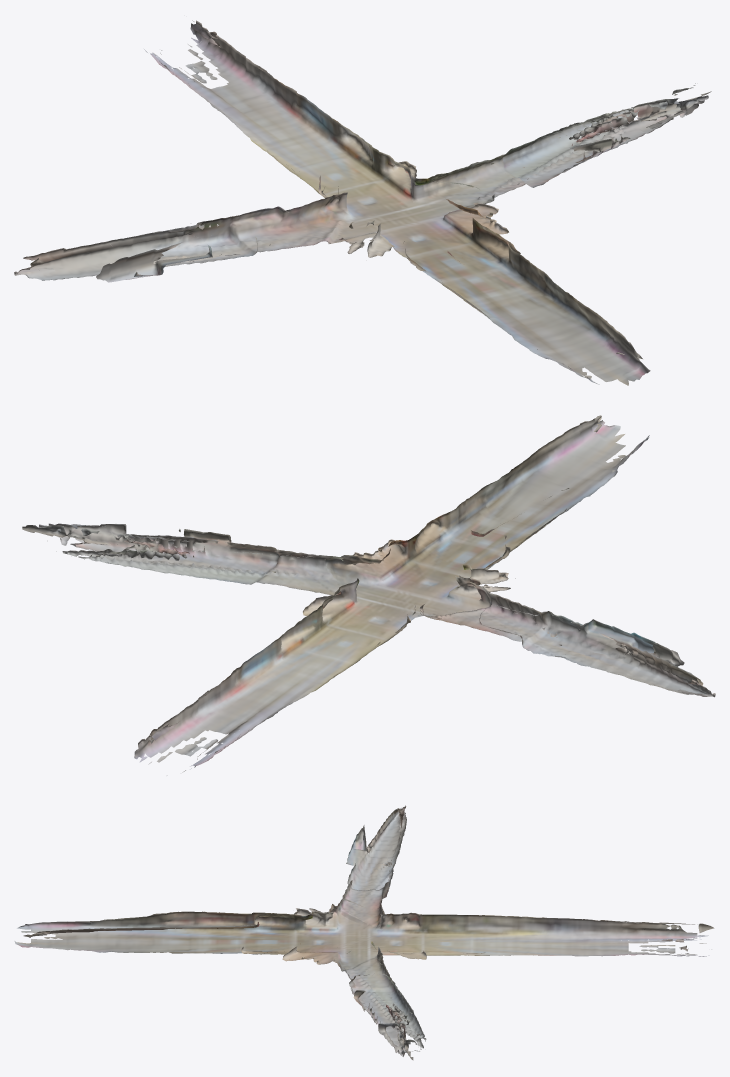
3 views of the same model, one above another, from view 1: azimuth 30°, elevation 25°; view 2: azimuth 150°, elevation 25°; view 3: azimuth 270°, elevation 25° (orthographic). The views are drawn at different scales.
Visible parts, largest first — view 1: world; view 2: world; view 3: world.
Boxes of the visible parts, x1=… form: world: x1=14, y1=20, x2=711, y2=385; world: x1=22, y1=415, x2=715, y2=775; world: x1=14, y1=805, x2=714, y2=1060.
Bounding box in the file's own units: 39.8 × 1.79 × 45.91.
